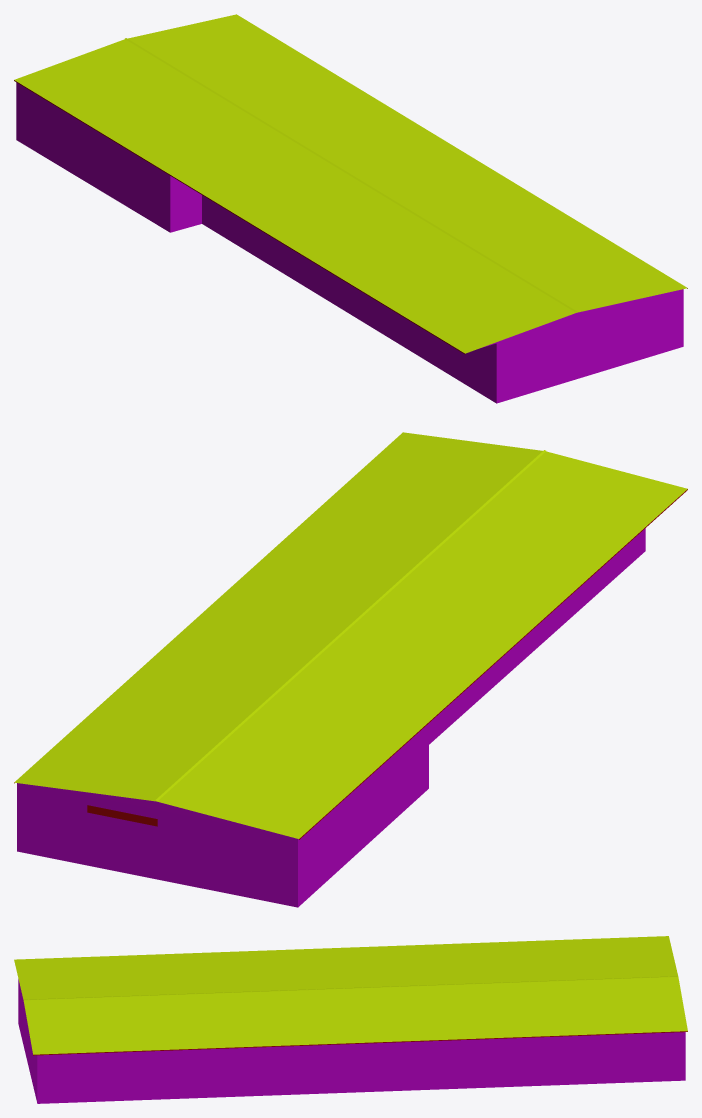
Rendered from viannet.glb.
3 views of the same model, one above another, from view 1: azimuth 30°, elevation 25°; view 2: azimuth 150°, elevation 25°; view 3: azimuth 270°, elevation 25° (orthographic). The views are drawn at different scales.
Parts seen in each view (by area): view 1: viannet; view 2: viannet; view 3: viannet.
Part boxes in pixels (box(x1,y1,x2,y2)): viannet: box(14, 14, 687, 403); viannet: box(14, 432, 687, 907); viannet: box(14, 936, 687, 1103).
Bounding box in the file's own units: 38.22 × 8.64 × 91.73.
